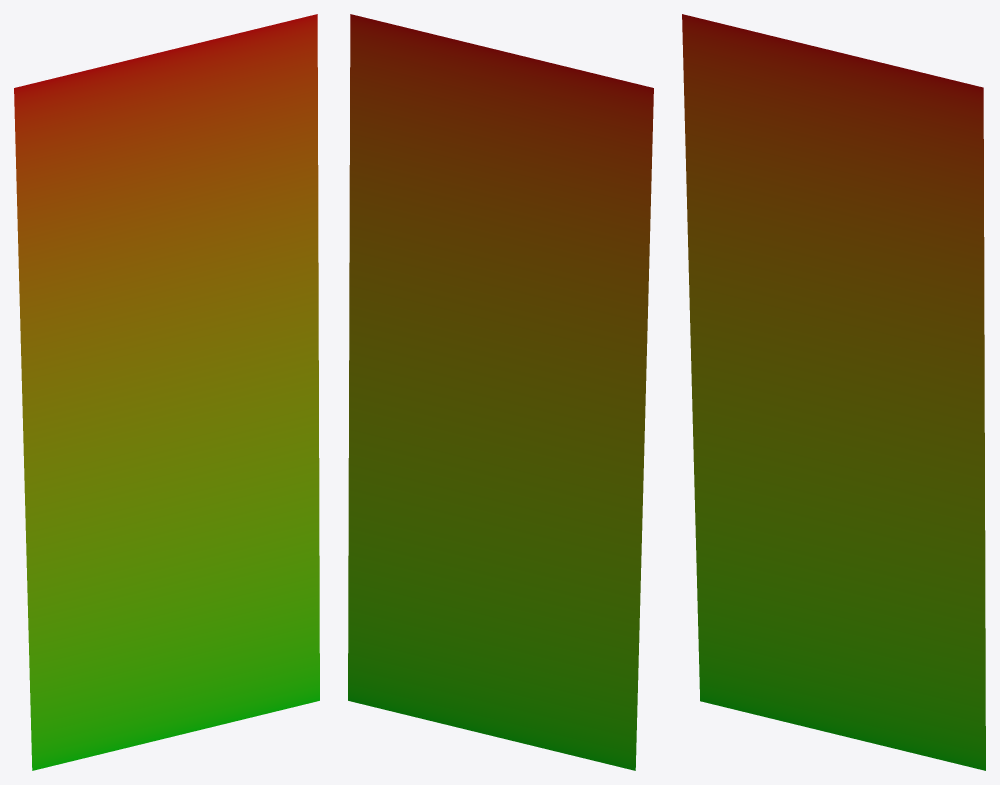
File: Rough Meadow Grass_LOD3_Var1_skFjJ.fbx
The picture shows the model from 3 angles, left to right: view 1: azimuth 30°, elevation 25°; view 2: azimuth 150°, elevation 25°; view 3: azimuth 330°, elevation 25°; orthographic projection.
Parts seen in each view (by area): view 1: _d25c_Var1_LOD3; view 2: _d25c_Var1_LOD3; view 3: _d25c_Var1_LOD3.
Part boxes in pixels (x1,y1,x2,y2): _d25c_Var1_LOD3: [14, 14, 319, 770]; _d25c_Var1_LOD3: [348, 14, 653, 770]; _d25c_Var1_LOD3: [682, 14, 985, 770].
Size of the model in its own units: 58.65 by 126 by 1.14e-05.
